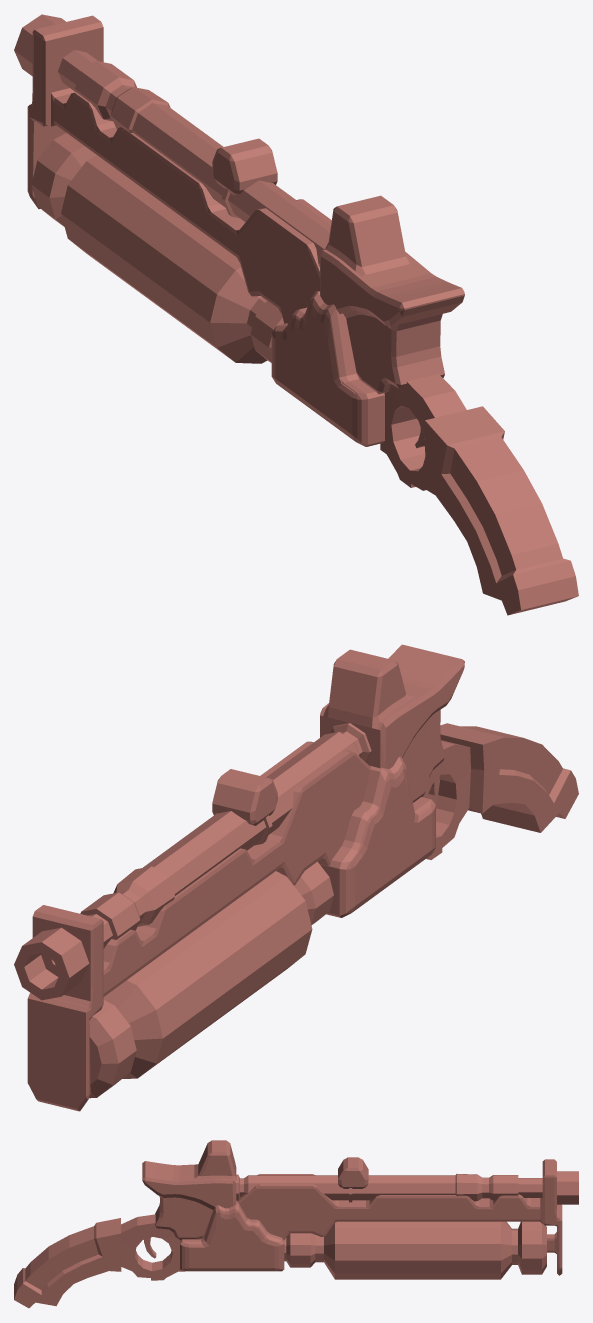
File: long-pistol.glb
The picture shows the model from 3 angles, top to bottom: view 1: azimuth 30°, elevation 25°; view 2: azimuth 150°, elevation 25°; view 3: azimuth 270°, elevation 25°; orthographic projection. The views are drawn at different scales.
Visible parts, largest first — view 1: LongPistol_Cube; view 2: LongPistol_Cube; view 3: LongPistol_Cube.
Part boxes in pixels (bbox=[...]): LongPistol_Cube: bbox=[14, 14, 578, 615]; LongPistol_Cube: bbox=[14, 644, 578, 1111]; LongPistol_Cube: bbox=[14, 1140, 578, 1308].
Size of the model in its own units: 0.1079 by 0.28 by 0.9294.
